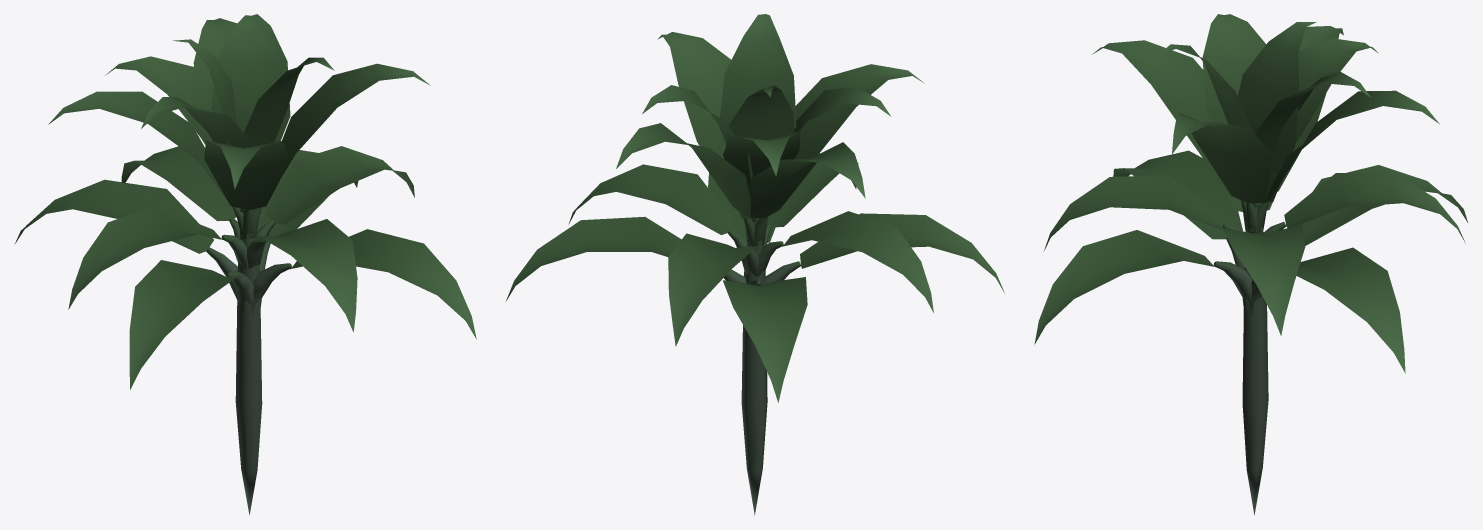
The model's file is plants-leafy-plants-pointed-leaf-plant_v1.fbx.
3 views of the same model, side by side, from view 1: azimuth 30°, elevation 25°; view 2: azimuth 150°, elevation 25°; view 3: azimuth 270°, elevation 25° (orthographic). The views are drawn at different scales.
Parts seen in each view (by area): view 1: Pointed Leaf Plant_v1; view 2: Pointed Leaf Plant_v1; view 3: Pointed Leaf Plant_v1.
Part boxes in pixels (x1,y1,x2,y2): Pointed Leaf Plant_v1: (14, 14, 476, 515); Pointed Leaf Plant_v1: (506, 14, 1004, 515); Pointed Leaf Plant_v1: (1034, 14, 1467, 515).
Bounding box in the file's own units: 0.4056 × 0.5 × 0.4059.
